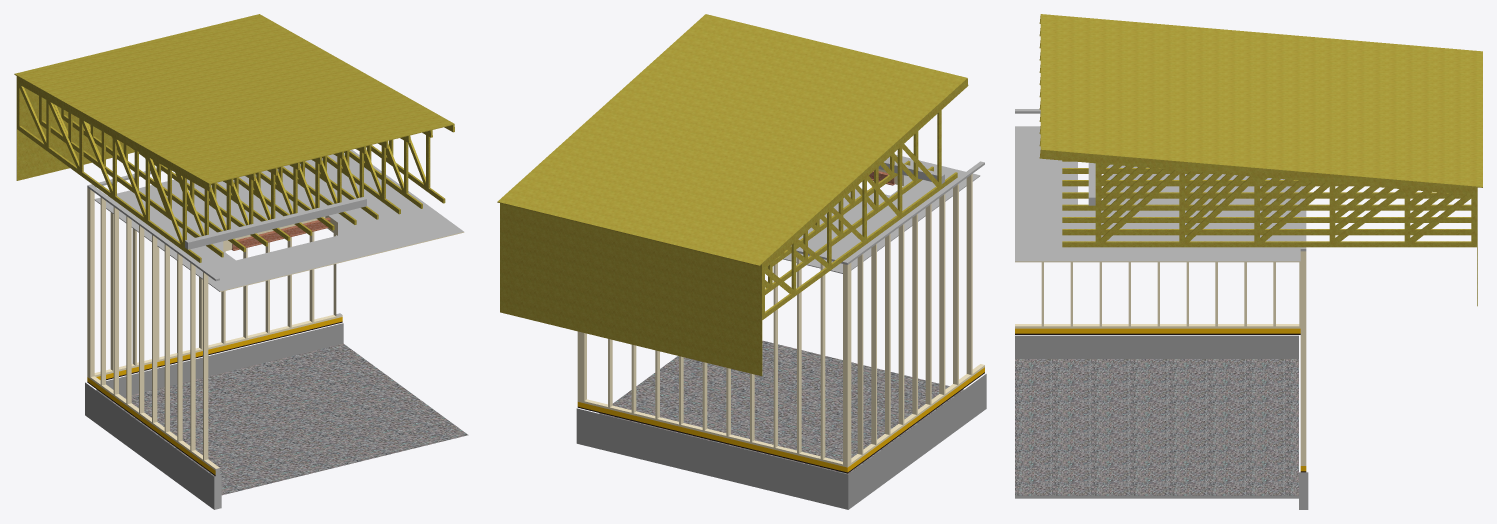
File: tobera-trolly.glb
3 renders of one model, left to right at view 1: azimuth 30°, elevation 25°; view 2: azimuth 150°, elevation 25°; view 3: azimuth 270°, elevation 25°, orthographic. The views are drawn at different scales.
Parts seen in each view (by area): view 1: 戸牧４_skp, Group_15, Group_2, Group_4, Group_0_3, Group_9_2, Group_14, Group_11, Group_18, Group_8_2, Group_10, Group_19 (+15 smaller); view 2: Group_15, 戸牧４_skp, Group_2, Group_4, Group_12, Group_14, Group_18, Group_20, Group_9_2, Group_11, Group_10, Group_13 (+5 smaller); view 3: 戸牧４_skp, Group_15, Group_10_2, Group_7, Group_5, Group_8, Group_9, Group_11_2.
Boxes of the visible parts, x1,y1,x2,y2 form: 戸牧４_skp: [85, 149, 468, 509]; Group_15: [14, 14, 454, 184]; Group_2: [17, 76, 211, 262]; Group_4: [39, 96, 233, 257]; Group_0_3: [61, 108, 255, 251]; Group_9_2: [100, 197, 105, 385]; Group_14: [164, 244, 169, 432]; Group_11: [126, 216, 131, 404]; Group_18: [177, 253, 182, 441]; Group_8_2: [89, 189, 94, 376]; Group_10: [113, 207, 118, 394]; Group_19: [190, 263, 195, 450]; Group_15: [497, 14, 967, 376]; 戸牧４_skp: [576, 155, 986, 509]; Group_2: [762, 79, 968, 319]; Group_4: [765, 131, 933, 294]; Group_12: [898, 224, 904, 424]; Group_14: [925, 204, 931, 404]; Group_18: [939, 194, 945, 394]; Group_20: [966, 174, 972, 374]; Group_9_2: [857, 254, 863, 454]; Group_11: [885, 234, 890, 434]; Group_10: [871, 244, 876, 444]; Group_13: [912, 214, 917, 414]; 戸牧４_skp: [1015, 109, 1308, 509]; Group_15: [1040, 14, 1482, 306]; Group_10_2: [1039, 150, 1476, 247]; Group_7: [1039, 138, 1471, 235]; Group_5: [1039, 126, 1471, 222]; Group_8: [1039, 114, 1471, 210]; Group_9: [1039, 101, 1465, 198]; Group_11_2: [1039, 89, 1355, 186].
Bounding box in the file's own units: 523 × 622 × 735.
Materials: 40 (15 with a texture image).
